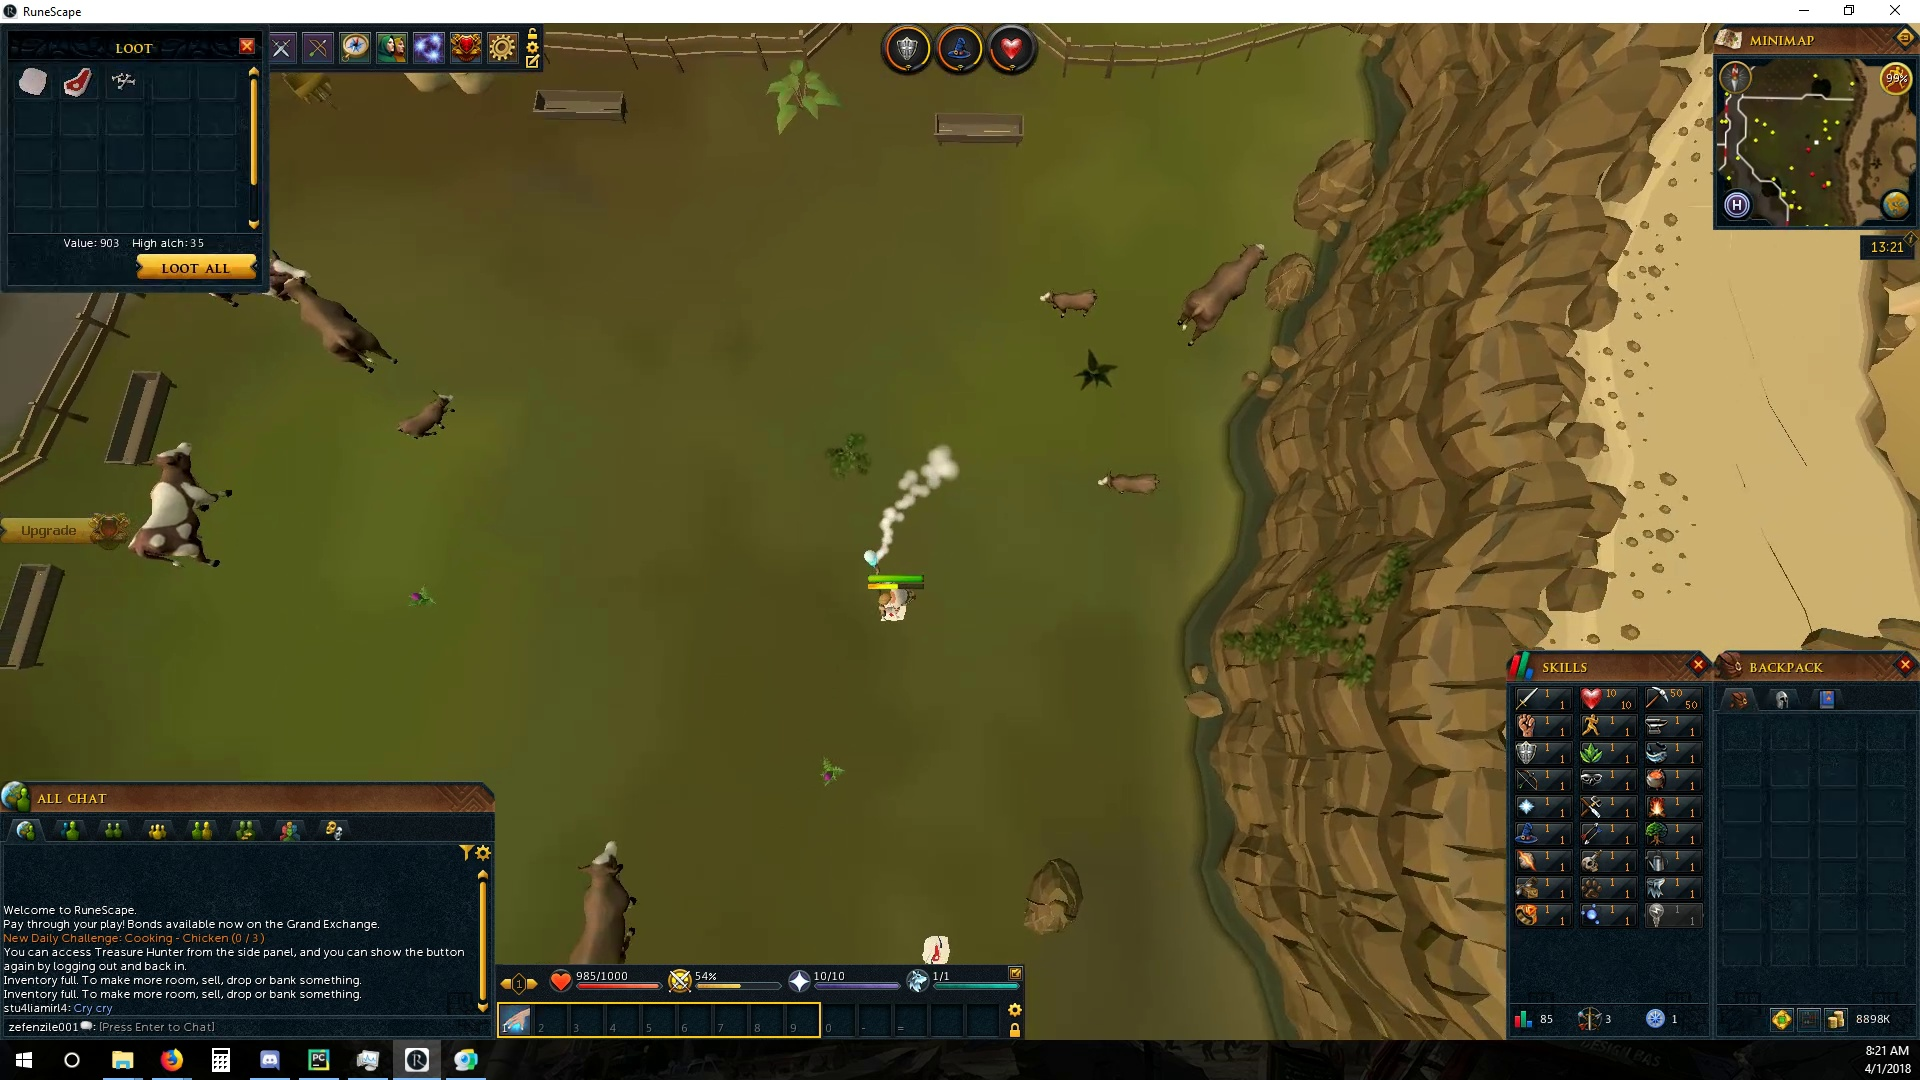calf: (392, 386, 460, 443), (1036, 286, 1102, 319), (1092, 469, 1160, 496)
cow: (131, 436, 237, 571), (281, 270, 415, 375), (1170, 239, 1273, 353), (564, 833, 644, 967)
cow_drop: (918, 934, 952, 963)
